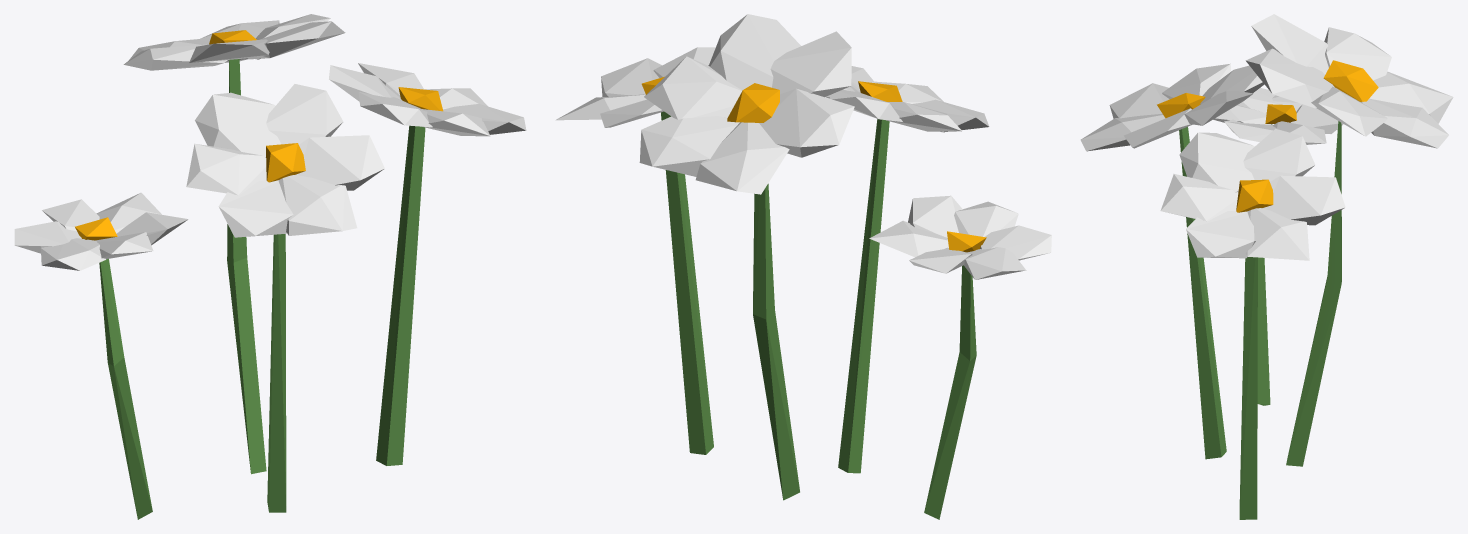
The model's file is Flower_04.fbx.
The picture shows the model from 3 angles, left to right: view 1: azimuth 30°, elevation 25°; view 2: azimuth 150°, elevation 25°; view 3: azimuth 270°, elevation 25°; orthographic projection. The views are drawn at different scales.
Visible parts, largest first — view 1: Flower_04_LOD0; view 2: Flower_04_LOD0; view 3: Flower_04_LOD0.
Part boxes in pixels (box(x1,y1,x2,y2)): Flower_04_LOD0: box(14, 14, 526, 519); Flower_04_LOD0: box(555, 14, 1051, 519); Flower_04_LOD0: box(1080, 14, 1453, 519).
Size of what is drawn, in the model's own units: 31.58 by 29.38 by 23.08.
